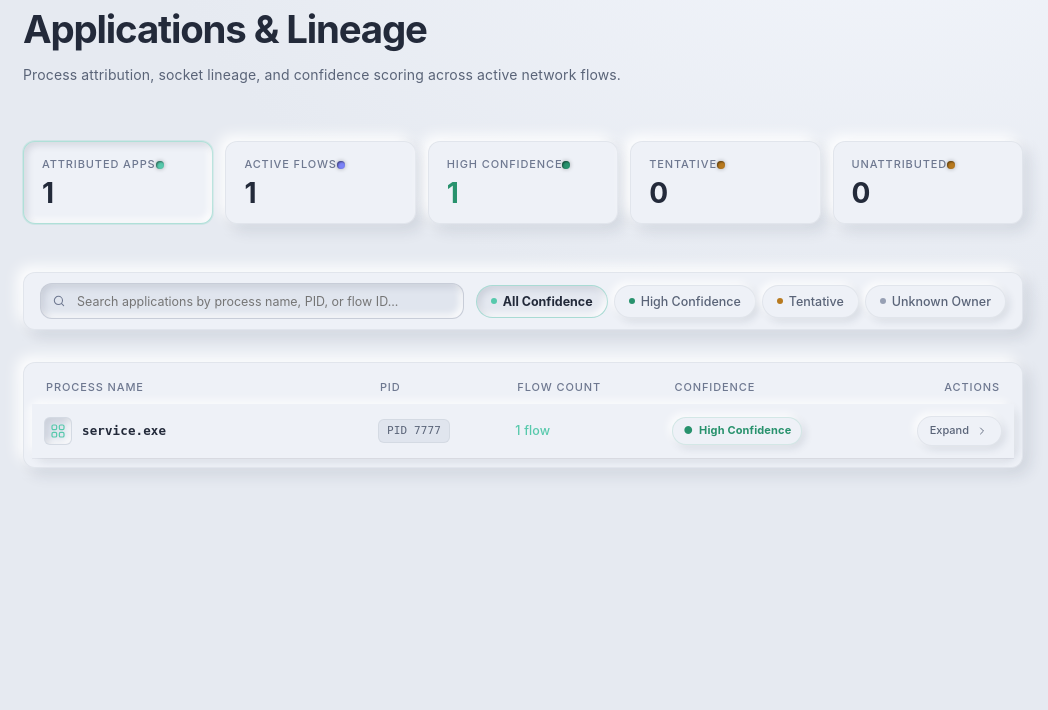
Apps Screen & useAppsController › Socket Lineage in Expanded Row Tray › discovers and exposes flow IDs embedded within lineage conduits for inspection
This screenshot has width=1048, height=710.
Expected: the text "service.exe" is shown, [82, 421, 166, 441]
Click the button with aria-label "Expand service.exe" at [959, 431], box [917, 416, 1002, 446]
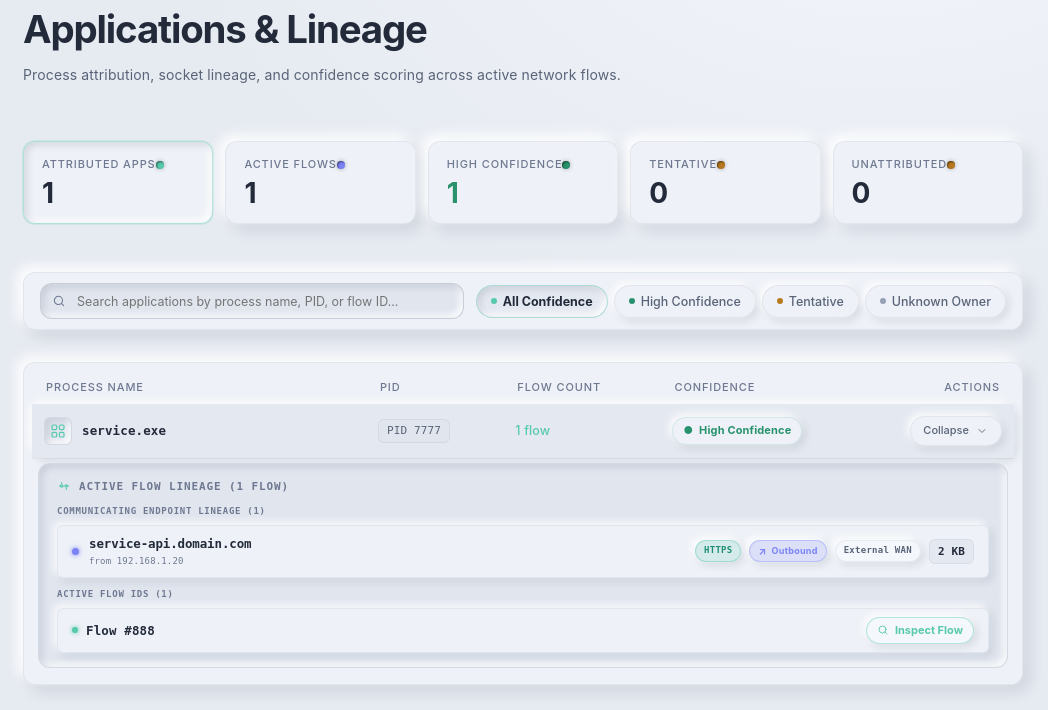
Result: the text "service-api.domain.com" is shown at [89, 534, 251, 553]
Result: the text "Flow #888" is shown at [72, 621, 155, 640]
Result: the button with aria-label "Inspect Flow #888" is shown at [866, 617, 974, 644]
